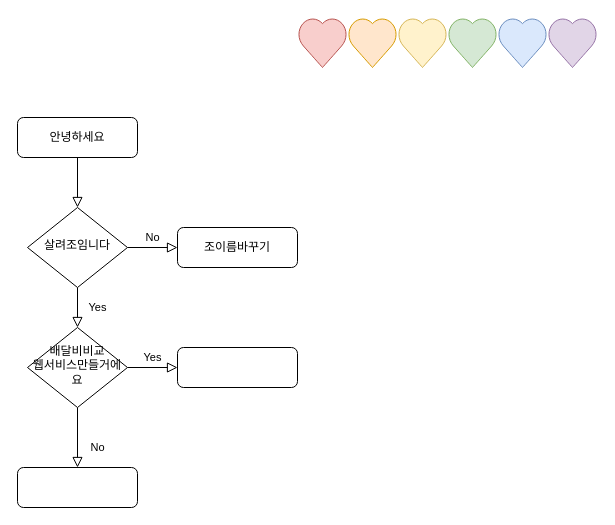
Some shapes in this 615 by 525 pixel diagram are drawn without their labels. Each missing label, with the box of its shape:
다시생각해봐라~: (16, 466, 138, 508)
만들자!!: (176, 346, 298, 388)
